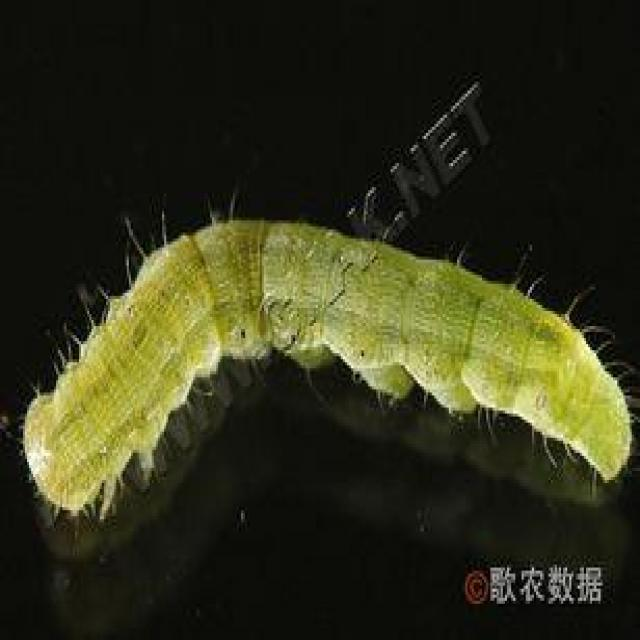BeetArmyWorm-Larva-: (21, 213, 636, 545)
